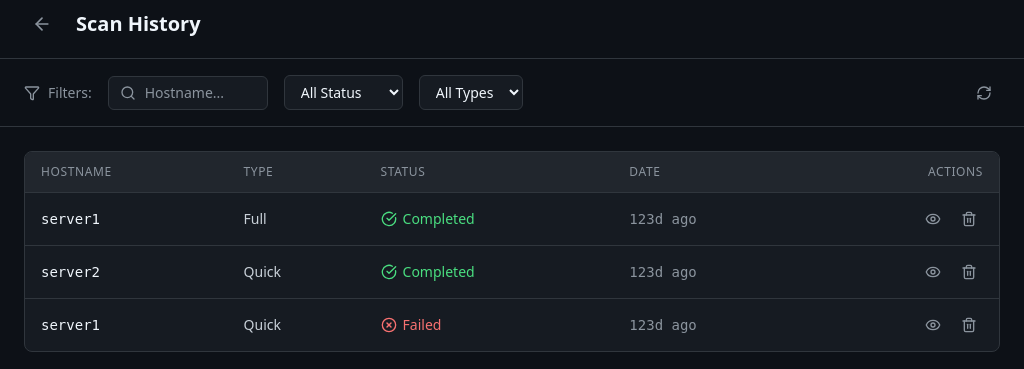
Test: ScanHistoryPage › Filter by hostname (AC3) › shows no matching scans message when filter returns empty
expect the element with test id "scans-table" is shown: met, box [24,151,1000,352]
Apply hostname filter
Type "nonexistent" into the field with test id "hostname-filter" at (188, 92), box [108,76,268,110]
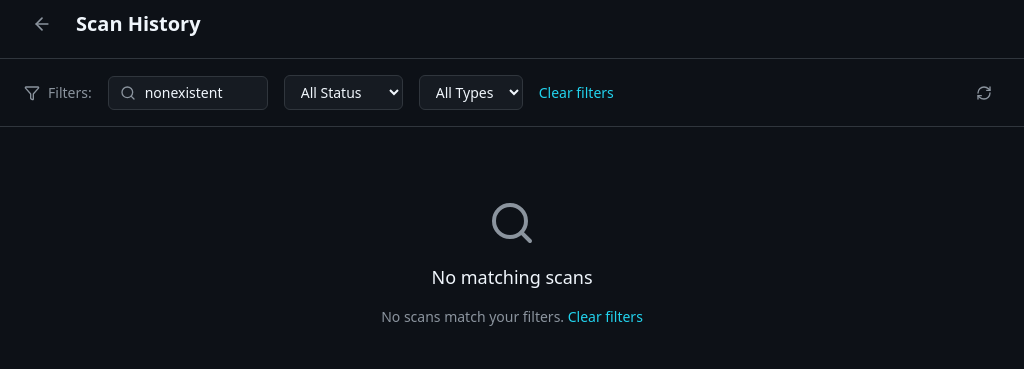
expect the heading "No matching scans" is shown: met, box [432,263,593,291]
